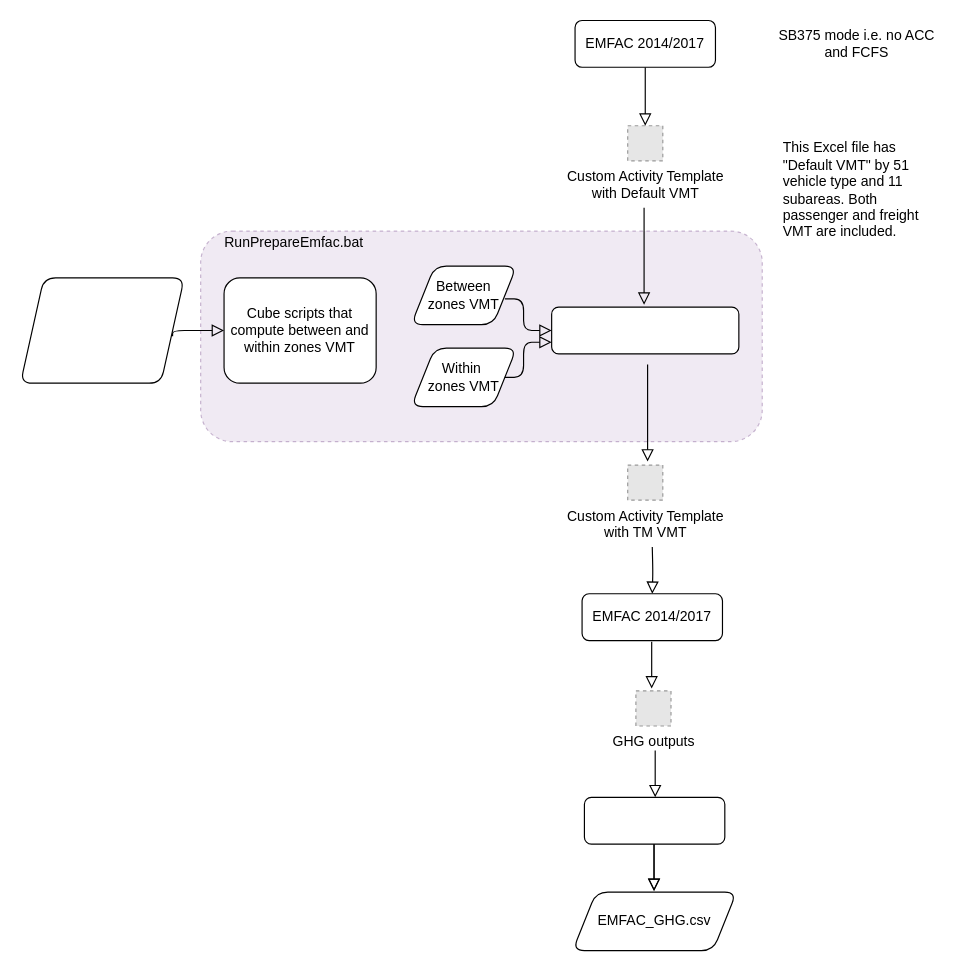
This 965x971 diagram has some shape labels left out. Grey dashed boxes stand in for pictures. Each missing label, with the box of its shape:
emfac_postproc.py: (583, 796, 725, 844)
emfac_prep.py: (550, 306, 739, 354)
Travel Model (TM) outputs i.e. the loaded network: (19, 277, 184, 383)
